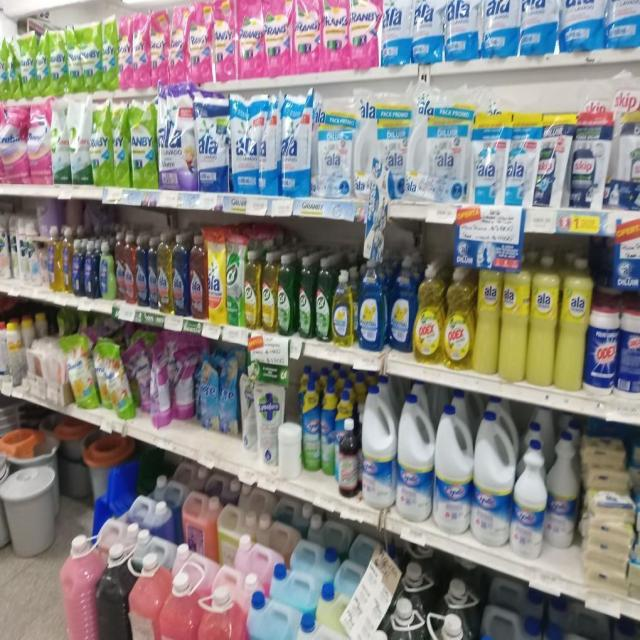ala_conc_amarillo: (158, 232, 172, 314)
ala_conc_azul: (172, 233, 189, 317), (136, 235, 148, 308), (148, 235, 158, 309)
ala_conc_rojo: (190, 232, 207, 321), (115, 233, 127, 303), (125, 233, 135, 305)
ala_crem_amarillo: (558, 256, 588, 392), (529, 254, 557, 388), (500, 254, 528, 383), (474, 262, 500, 376)
ala_sachet_amarillo: (208, 228, 225, 324)
cif_conc_bot_amarilla: (261, 252, 277, 333), (244, 249, 260, 330)
cif_conc_botella_verde: (278, 253, 296, 337), (297, 255, 314, 340), (315, 257, 331, 343)
cif_conc_sachet_verde: (226, 229, 244, 327)
magistral_con_amarillo: (332, 268, 355, 347), (49, 18, 66, 96), (0, 20, 8, 100)
magistral_con_azul: (358, 256, 386, 352), (388, 254, 414, 353)
odex: (444, 265, 473, 370), (415, 262, 443, 364)
